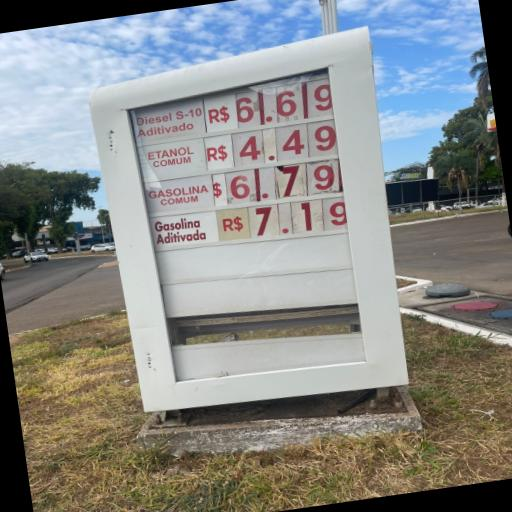ETANOL: (136, 140, 207, 177)
GASOLINA AD: (151, 210, 219, 247)
GASOLINA C: (143, 174, 214, 212)
S10: (131, 99, 207, 142)
placa: (97, 41, 399, 411)
preco: (224, 162, 343, 205), (234, 120, 341, 167), (240, 78, 334, 127), (247, 198, 350, 240)
